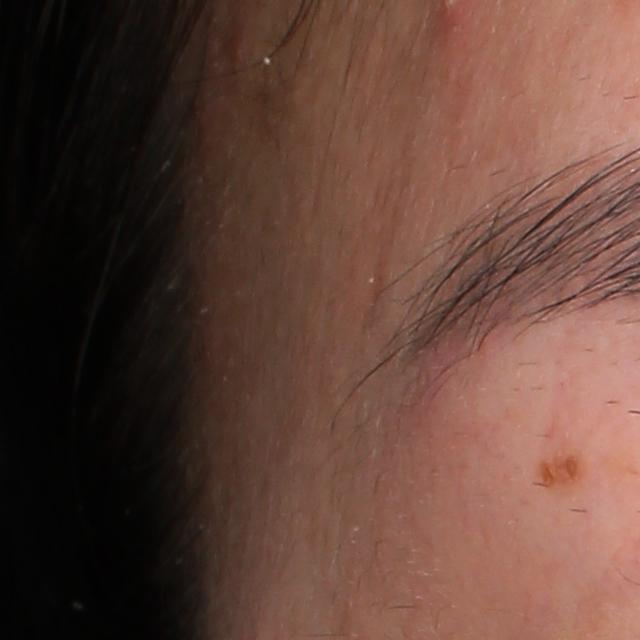papule: (224, 32, 246, 67)
